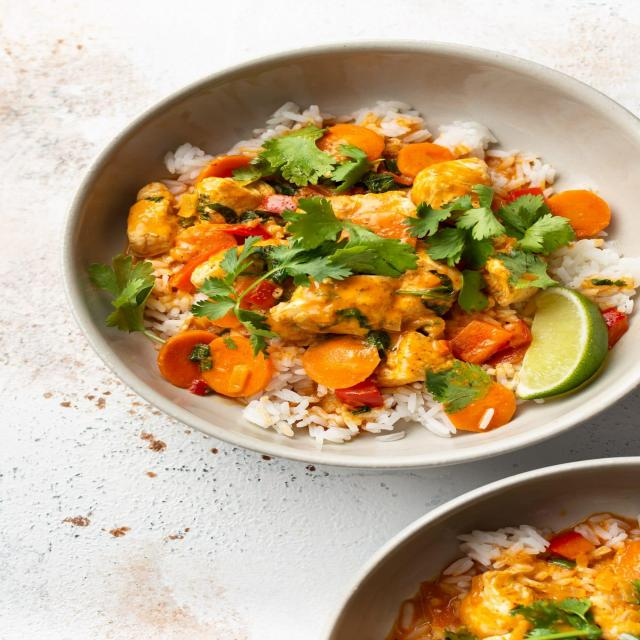chicken: (146, 138, 581, 397), (414, 512, 640, 640)
